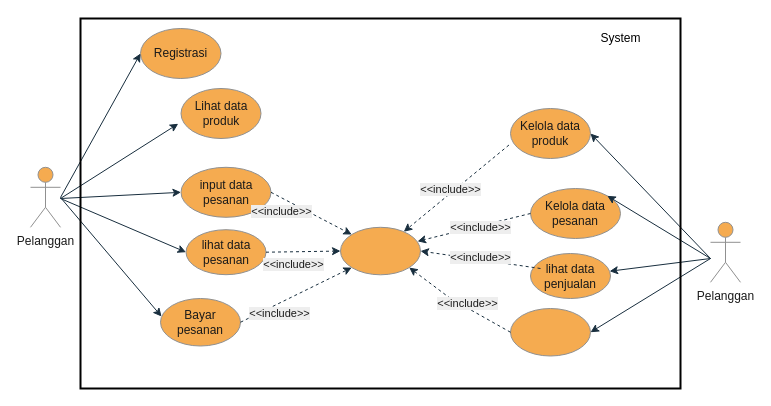
Image size: 771x406. Some labels were removed from this diagram. Each missing label, with the centre of its shape:
Approve pembayaran: [550,332]
login: [380,250]
